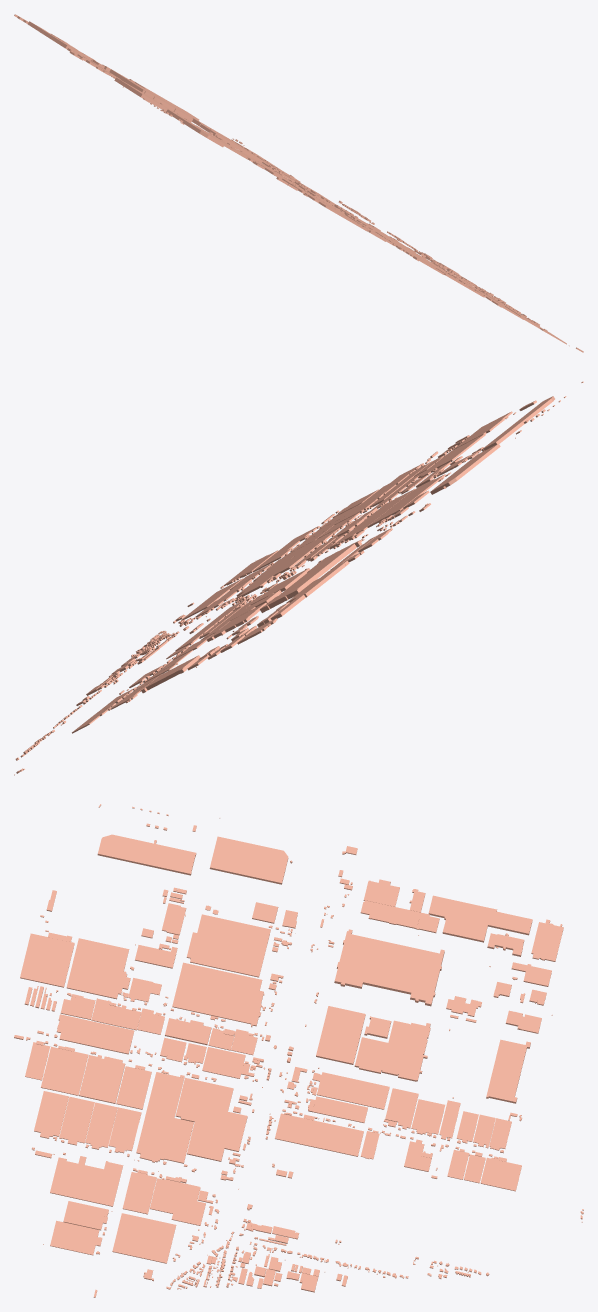
3 renders of one model, top to bottom at view 1: azimuth 30°, elevation 25°; view 2: azimuth 150°, elevation 25°; view 3: azimuth 270°, elevation 25°, orthographic. The views are drawn at different scales.
Bounding box in the file's own units: 1905 × 1487 × 2476.
